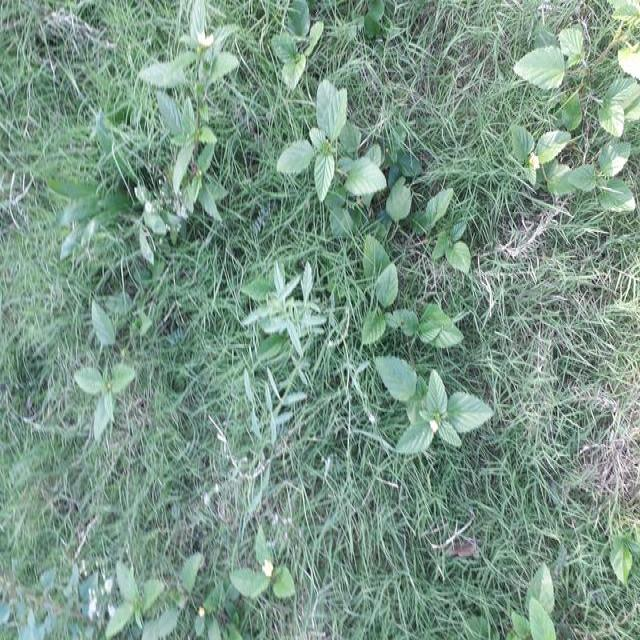weed: (527, 13, 631, 219), (153, 17, 239, 226), (367, 368, 506, 458), (287, 89, 378, 203), (99, 570, 228, 640), (261, 5, 332, 84), (367, 235, 412, 358), (248, 274, 314, 355), (422, 198, 474, 282), (72, 372, 138, 432), (238, 529, 290, 601), (512, 565, 560, 640)
